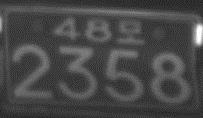2: (11, 44, 53, 100)
3: (57, 45, 97, 101)
4: (54, 14, 81, 42)
5: (103, 50, 144, 104)
8: (149, 50, 192, 105), (84, 16, 112, 43)
모: (115, 19, 146, 45)
